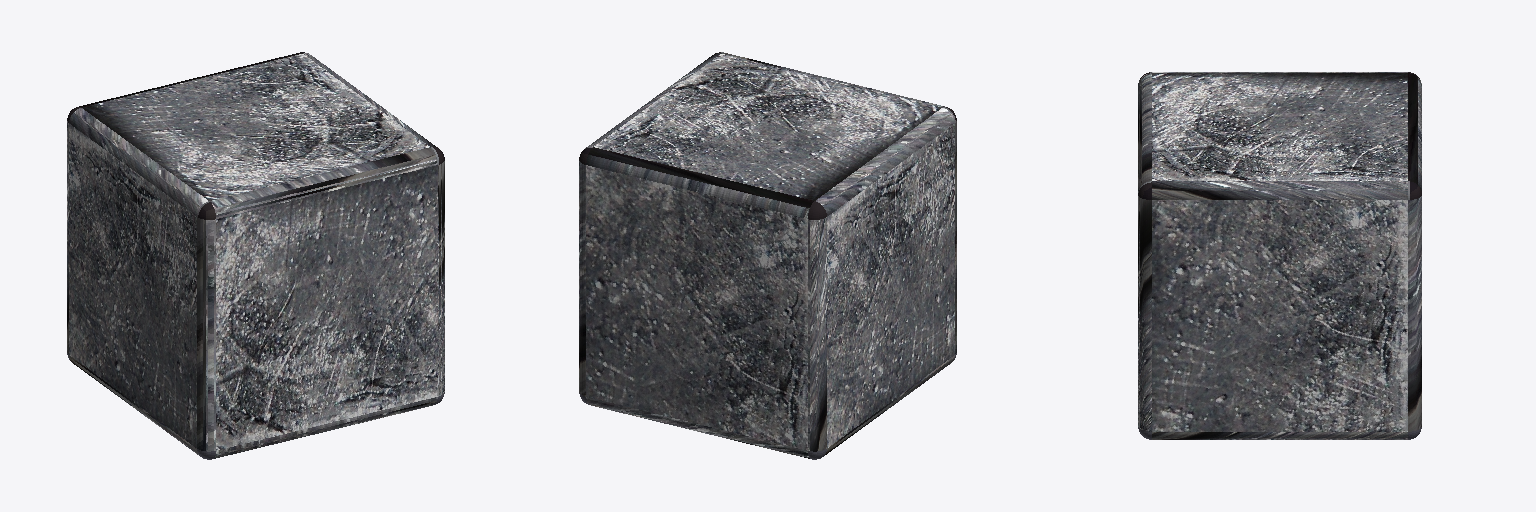
3 renders of one model, left to right at view 1: azimuth 30°, elevation 25°; view 2: azimuth 150°, elevation 25°; view 3: azimuth 270°, elevation 25°, orthographic.
Visible parts, largest first — view 1: Cube; view 2: Cube; view 3: Cube.
Boxes of the visible parts, x1,y1,x2,y2 form: Cube: [67, 52, 444, 459]; Cube: [579, 52, 956, 459]; Cube: [1138, 72, 1421, 439].
Size of the model in its own units: 2 by 2 by 2.
Materials: 1 (1 with a texture image).